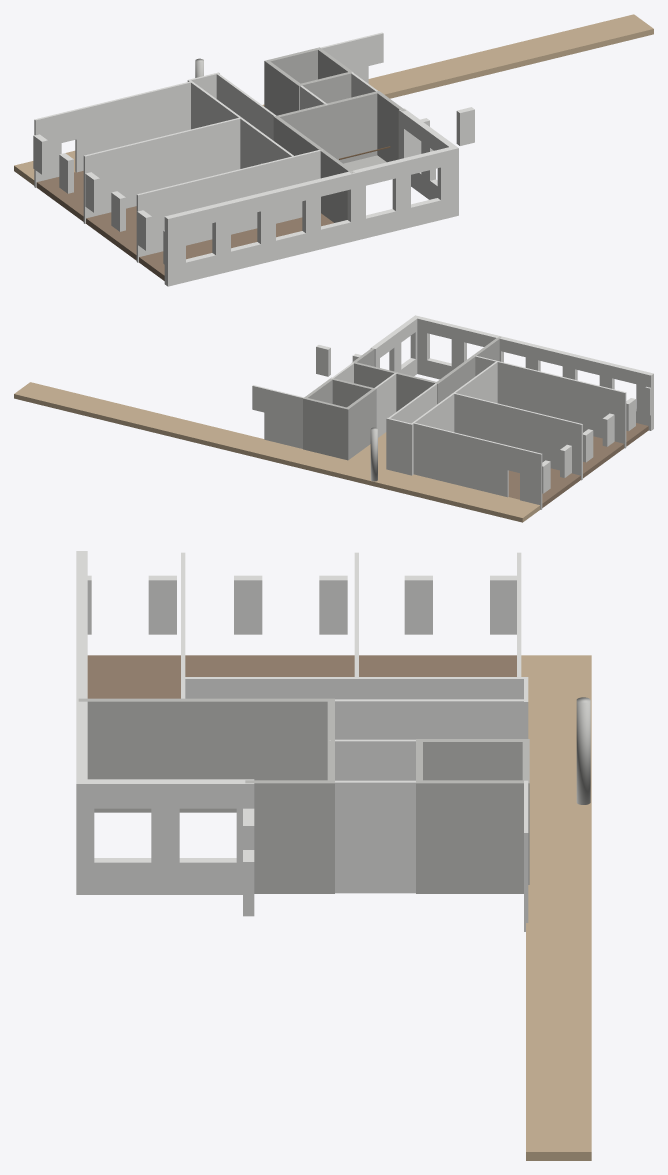
File: SM_Bygg_Helgasetr_P4_V_S.fbx
The picture shows the model from 3 angles, top to bottom: view 1: azimuth 30°, elevation 25°; view 2: azimuth 150°, elevation 25°; view 3: azimuth 270°, elevation 25°; orthographic projection. The views are drawn at different scales.
Visible parts, largest first — view 1: SM_Bygg_Helgasetr_P4_V_S; view 2: SM_Bygg_Helgasetr_P4_V_S; view 3: SM_Bygg_Helgasetr_P4_V_S.
Boxes of the visible parts, box(x1,y1,x2,y2) form: SM_Bygg_Helgasetr_P4_V_S: box(14, 14, 653, 286); SM_Bygg_Helgasetr_P4_V_S: box(14, 315, 653, 522); SM_Bygg_Helgasetr_P4_V_S: box(76, 551, 591, 1160).
Size of the model in its own units: 18.11 by 41.5 by 4.3.
